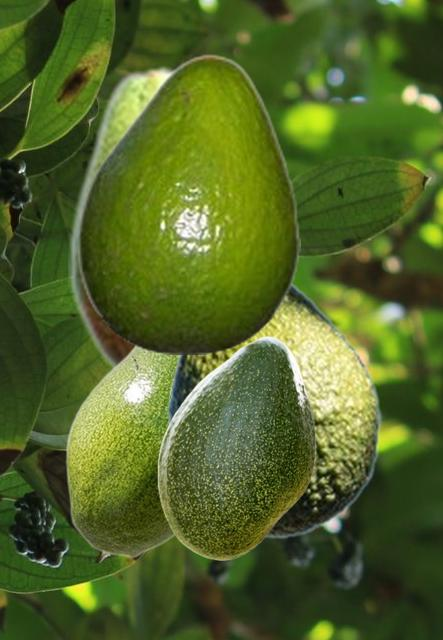avocado: (76, 53, 299, 353), (165, 281, 380, 538), (157, 336, 314, 559), (68, 63, 179, 371), (65, 346, 177, 557)
